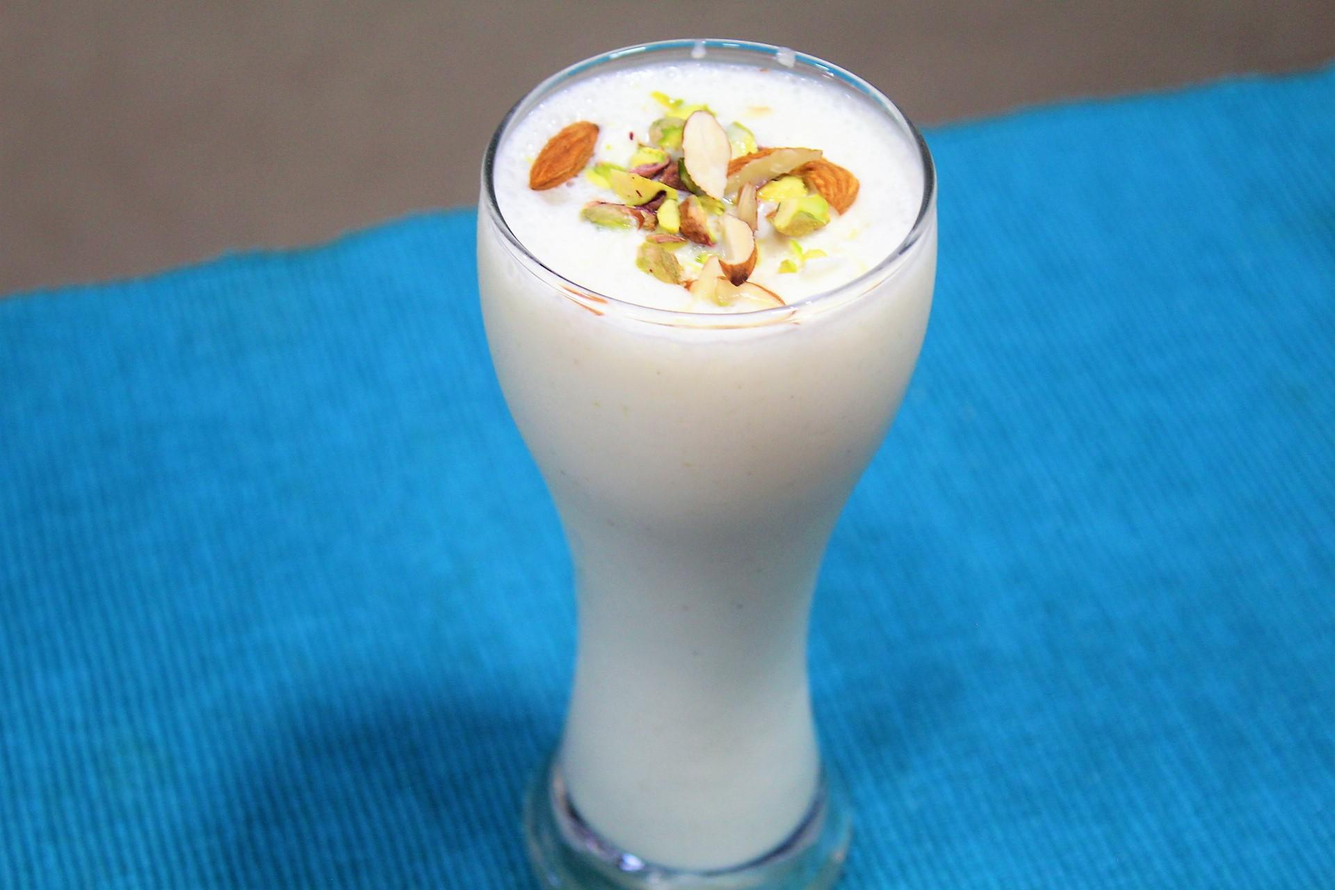Lassi: (476, 62, 940, 872)
